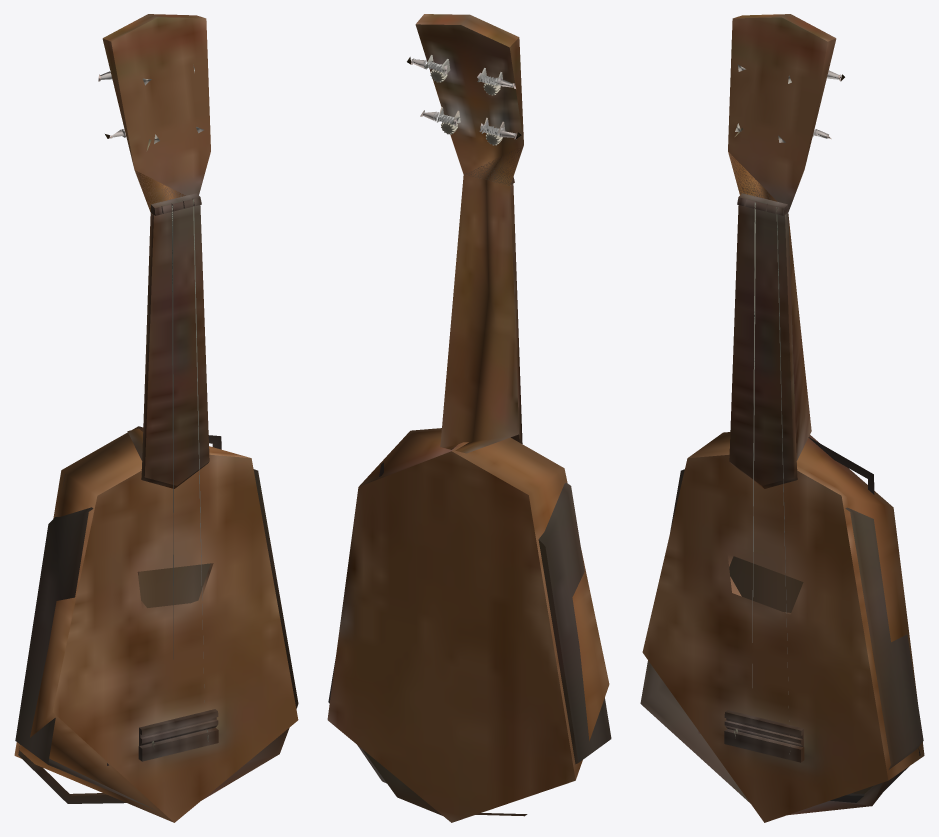
File: design-ukulele-01.glb
The picture shows the model from 3 angles, left to right: view 1: azimuth 30°, elevation 25°; view 2: azimuth 150°, elevation 25°; view 3: azimuth 330°, elevation 25°; orthographic projection.
Parts seen in each view (by area): view 1: Ukulele_01; view 2: Ukulele_01; view 3: Ukulele_01.
Boxes of the visible parts, <box> form: Ukulele_01: <box>14,14,298,822</box>; Ukulele_01: <box>327,14,611,822</box>; Ukulele_01: <box>640,14,924,822</box>.
Bounding box in the file's own units: 0.1734 × 0.5267 × 0.0502.
Materials: 1 (1 with a texture image).
